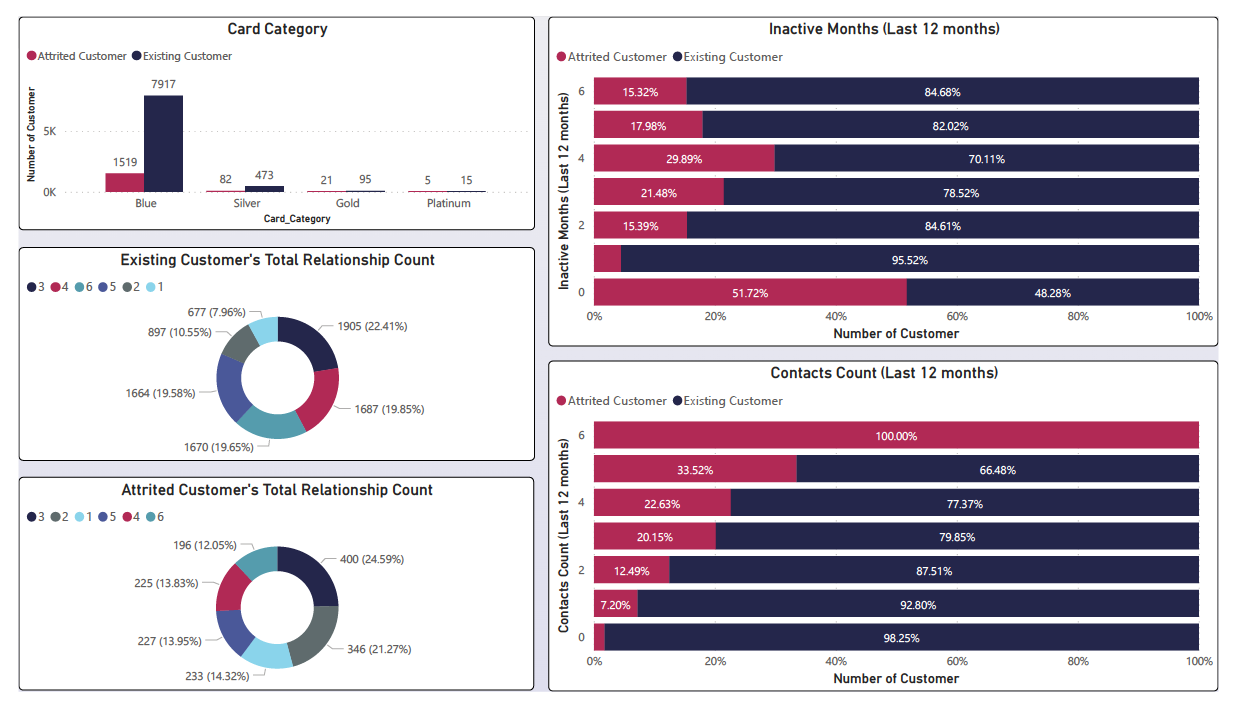

This screenshot's page, from the dashboard's own definition file:
{"tool":"powerbi","page":{"name":"Card Information","canvas":[1280,720],"ordinal":1},"visuals":[{"type":"hundredPercentStackedBarChart","title":"Contacts Count (Last 12 months)","fields":{"Series":["BankChurners.Attrition_Flag"],"Category":["BankChurners.Contacts_Count_12_mon"],"Y":["CountNonNull(BankChurners.CLIENTNUM)"]},"box":[565.1,366.7,714.6,352.9],"z":0},{"type":"clusteredColumnChart","title":"Card Category","fields":{"Category":["BankChurners.Card_Category"],"Series":["BankChurners.Attrition_Flag"],"Y":["CountNonNull(BankChurners.CLIENTNUM)"]},"box":[0,0,550.8,227.7],"z":1000},{"type":"donutChart","title":"Existing Customer''s Total Relationship Count","fields":{"Category":["BankChurners.Total_Relationship_Count"],"Y":["CountNonNull(BankChurners.CLIENTNUM)"]},"box":[0,245.8,551,228],"z":2000},{"type":"hundredPercentStackedBarChart","title":"Inactive Months (Last 12 months)","fields":{"Category":["BankChurners.Months_Inactive_12_mon"],"Series":["BankChurners.Attrition_Flag"],"Y":["CountNonNull(BankChurners.CLIENTNUM)"]},"box":[565.1,0,714.6,351.6],"z":3000},{"type":"donutChart","title":"Attrited Customer''s Total Relationship Count","fields":{"Category":["BankChurners.Total_Relationship_Count"],"Y":["CountNonNull(BankChurners.CLIENTNUM)"]},"box":[0,491.3,550.1,228],"z":4000}]}

Visuals, with their boxes in screenshot pixels (x1, y1, x2, y2), scaled from the page's 1280x720 canvas onto the 1237x710 screenshot:
"Contacts Count (Last 12 months)" hundredPercentStackedBarChart: x1=546 y1=362 x2=1236 y2=709
"Card Category" clusteredColumnChart: x1=0 y1=0 x2=532 y2=225
"Existing Customer''s Total Relationship Count" donutChart: x1=0 y1=242 x2=532 y2=467
"Inactive Months (Last 12 months)" hundredPercentStackedBarChart: x1=546 y1=0 x2=1236 y2=347
"Attrited Customer''s Total Relationship Count" donutChart: x1=0 y1=484 x2=532 y2=709
